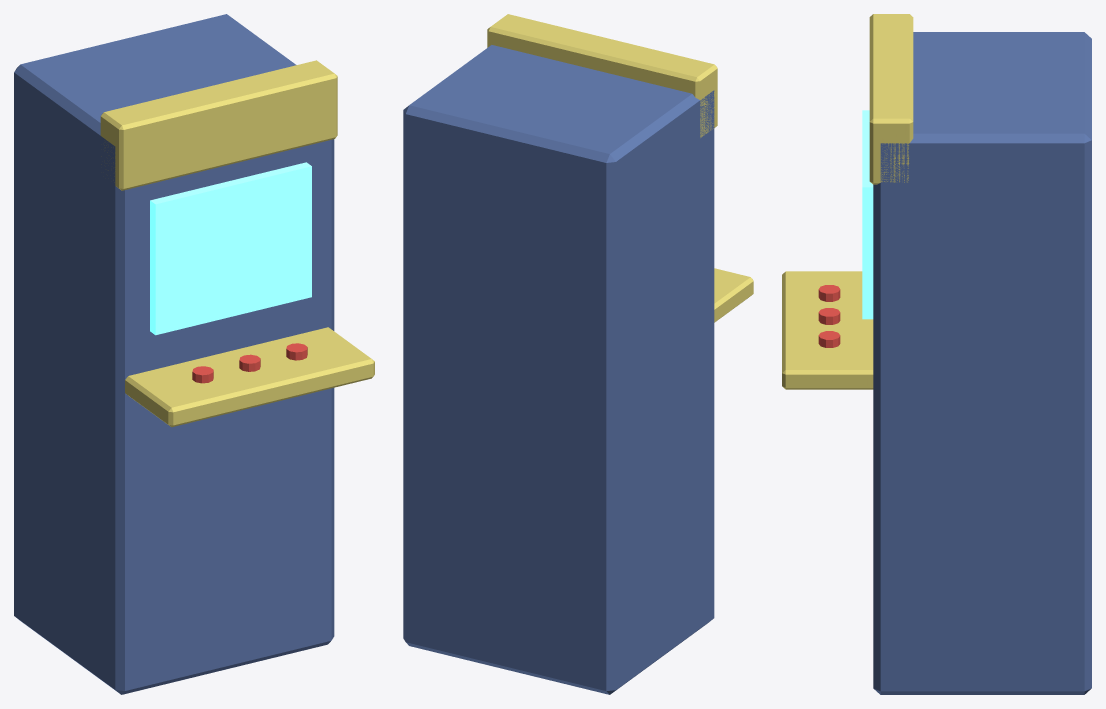
Rendered from arcade_cabinet.glb.
3 views of the same model, side by side, from view 1: azimuth 30°, elevation 25°; view 2: azimuth 150°, elevation 25°; view 3: azimuth 270°, elevation 25° (orthographic). The views are drawn at different scales.
Visible parts, largest first — view 1: arcade_cabinet; view 2: arcade_cabinet; view 3: arcade_cabinet.
Boxes of the visible parts, left/top/right/bottom form: arcade_cabinet: left=14, top=14, right=374, bottom=694; arcade_cabinet: left=403, top=14, right=753, bottom=694; arcade_cabinet: left=782, top=14, right=1091, bottom=694.
Bounding box in the file's own units: 0.7 × 1.75 × 0.85.
